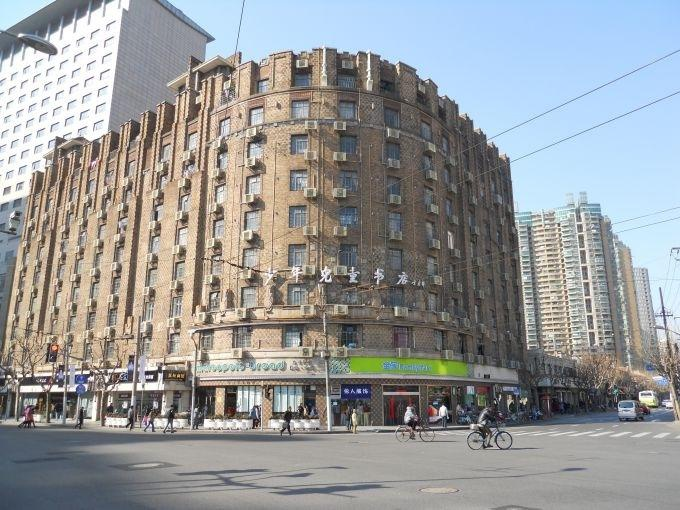non-vehicle: (466, 416, 512, 450), (394, 417, 434, 442)
